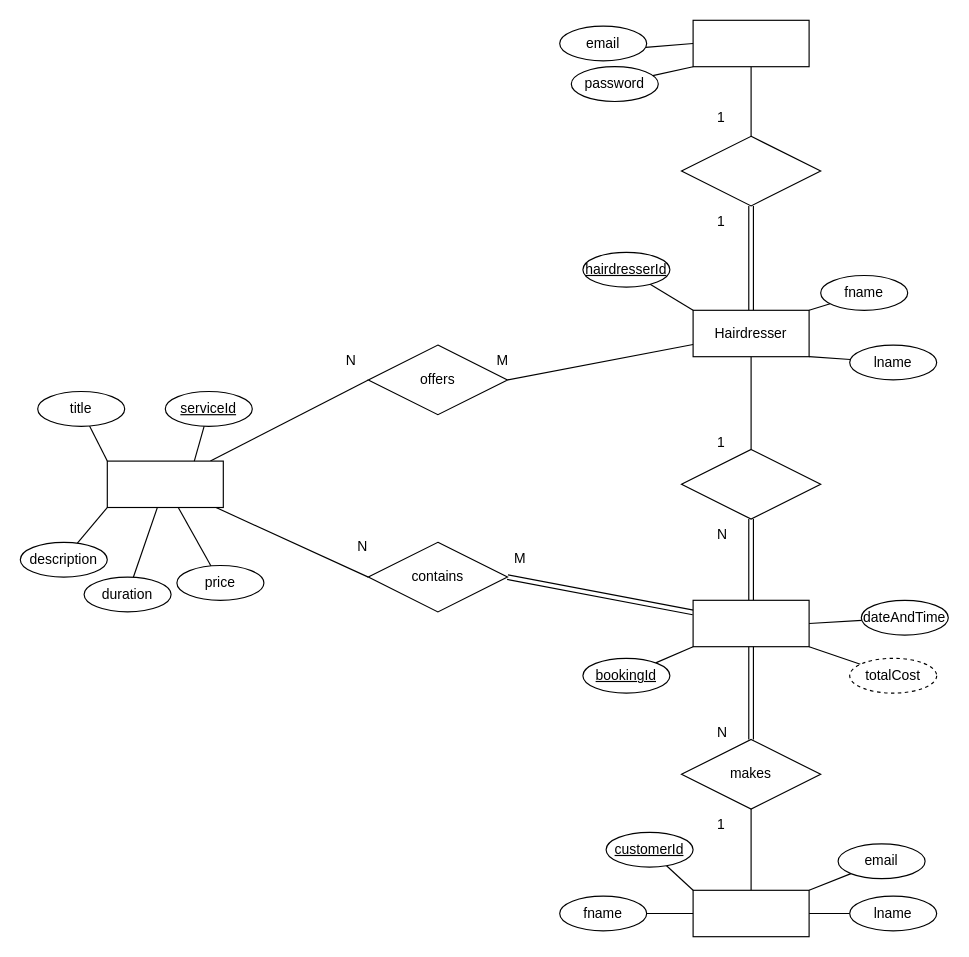
Image size: 969x957. Some labels were removed from this diagram. Each missing label, with the centre of its shape:
Booking: (750,623)
Customer: (750,913)
has: (750,483)
is: (750,170)
Service: (164,483)
User (Identity): (750,43)
